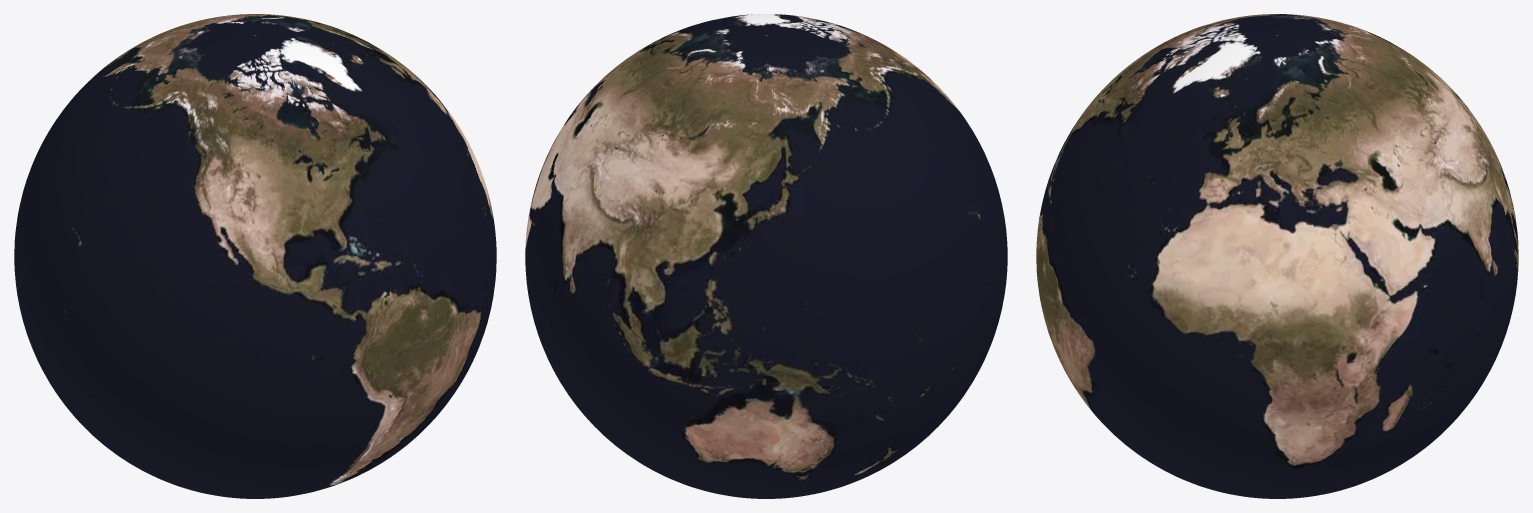
Rendered from earth_scene-transformed.glb.
3 renders of one model, left to right at view 1: azimuth 30°, elevation 25°; view 2: azimuth 150°, elevation 25°; view 3: azimuth 270°, elevation 25°, orthographic.
Parts seen in each view (by area): view 1: Sphere_Material.001_0; view 2: Sphere_Material.001_0; view 3: Sphere_Material.001_0.
Boxes of the visible parts, left/top/right/bottom form: Sphere_Material.001_0: left=14, top=14, right=496, bottom=498; Sphere_Material.001_0: left=525, top=14, right=1007, bottom=498; Sphere_Material.001_0: left=1036, top=14, right=1518, bottom=498.
Size of the model in its own units: 1.97 by 2 by 1.97.
1 material, 1 textured.
